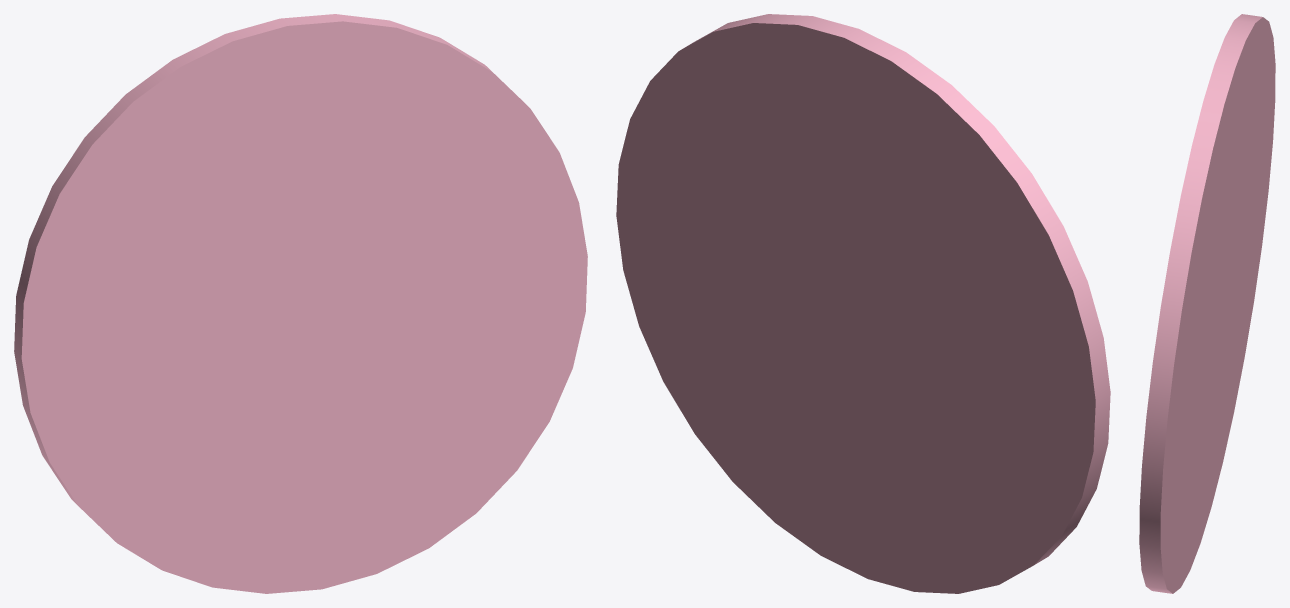
Rendered from Cake_Door.glb.
3 renders of one model, left to right at view 1: azimuth 30°, elevation 25°; view 2: azimuth 150°, elevation 25°; view 3: azimuth 270°, elevation 25°, orthographic. The views are drawn at different scales.
Visible parts, largest first — view 1: Cake_Door; view 2: Cake_Door; view 3: Cake_Door.
Part boxes in pixels (left/top/right/bottom): Cake_Door: left=14, top=14, right=587, bottom=593; Cake_Door: left=616, top=14, right=1110, bottom=593; Cake_Door: left=1139, top=14, right=1275, bottom=593.
Size of what is drawn, in the model's own units: 3.54 by 3.56 by 0.8318.
